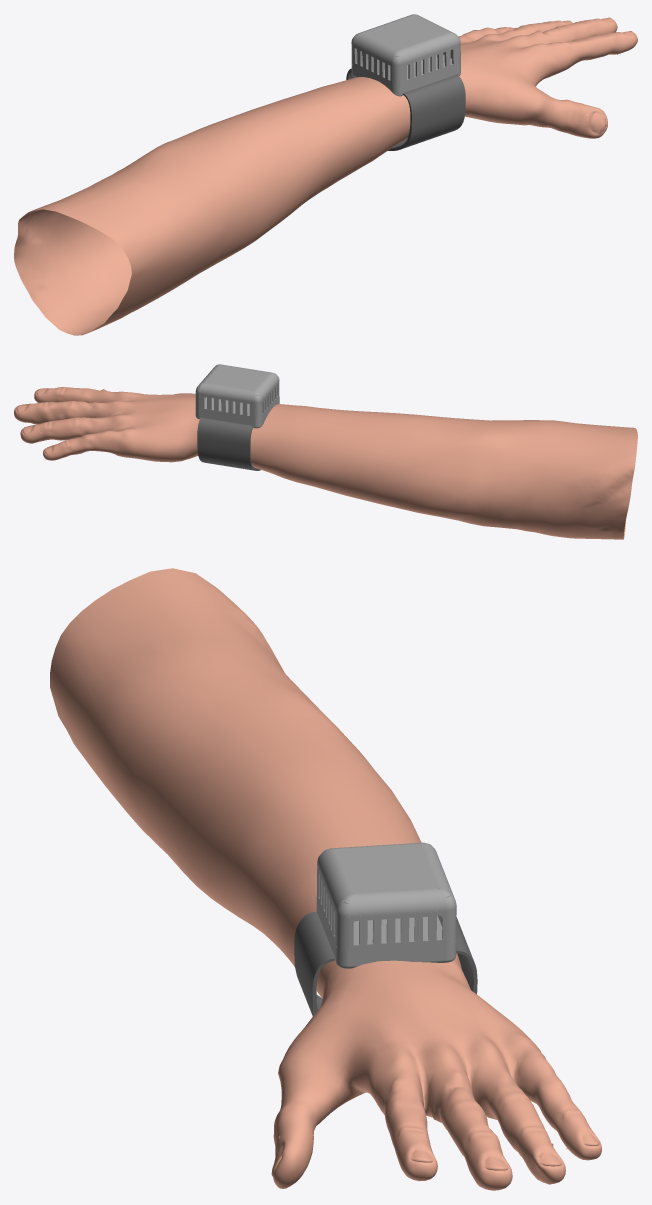
The model's file is PortablePneumaticWristband3.glb.
3 renders of one model, top to bottom at view 1: azimuth 30°, elevation 25°; view 2: azimuth 150°, elevation 25°; view 3: azimuth 270°, elevation 25°, orthographic. The views are drawn at different scales.
Parts seen in each view (by area): view 1: New object, NAUO2, NAUO4, NAUO1, NAUO3; view 2: New object, NAUO4, NAUO2, NAUO1, NAUO3; view 3: New object, NAUO2, NAUO1, NAUO4, NAUO3.
Boxes of the visible parts, x1,y1,x2,y2 form: New object: [14, 17, 637, 335]; NAUO2: [351, 14, 460, 65]; NAUO4: [346, 68, 465, 150]; NAUO1: [351, 43, 460, 87]; NAUO3: [351, 57, 460, 96]; New object: [14, 387, 637, 539]; NAUO4: [197, 417, 260, 470]; NAUO2: [195, 364, 279, 403]; NAUO1: [195, 382, 279, 420]; NAUO3: [195, 398, 279, 428]; New object: [50, 568, 601, 1190]; NAUO2: [317, 842, 456, 916]; NAUO1: [316, 865, 456, 953]; NAUO4: [294, 911, 477, 1016]; NAUO3: [316, 900, 456, 968].
Bounding box in the file's own units: 34.65 × 7.31 × 15.05.
